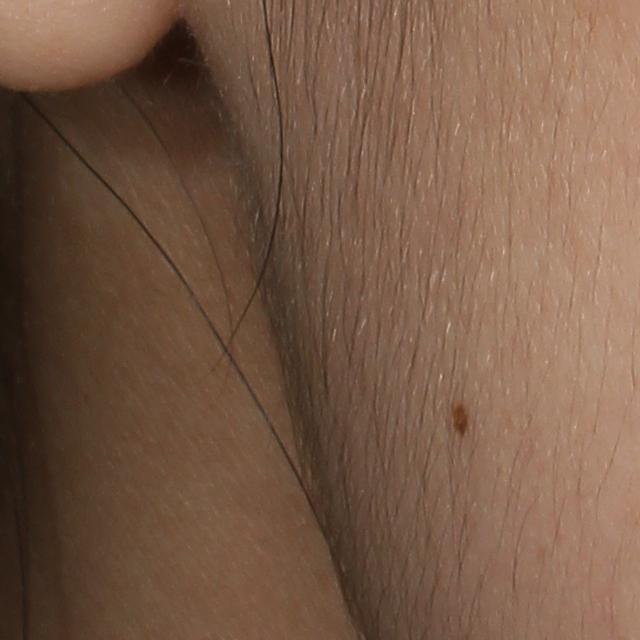nevus: (450, 401, 468, 431)
